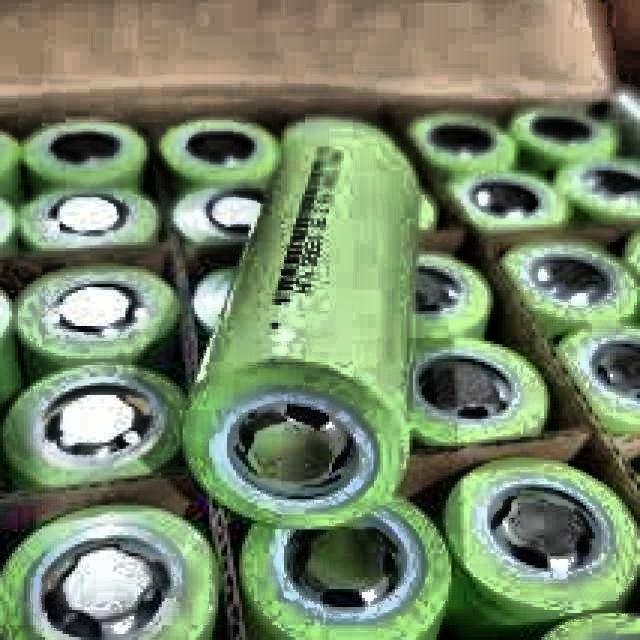battery: (180, 117, 422, 528)
